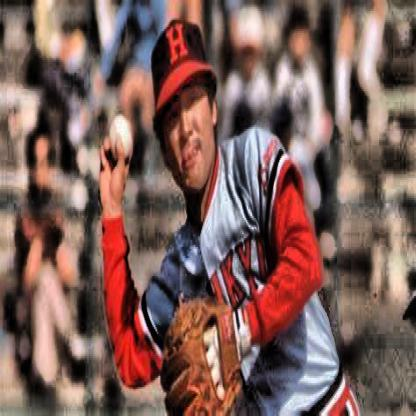baseball: (108, 114, 132, 163)
